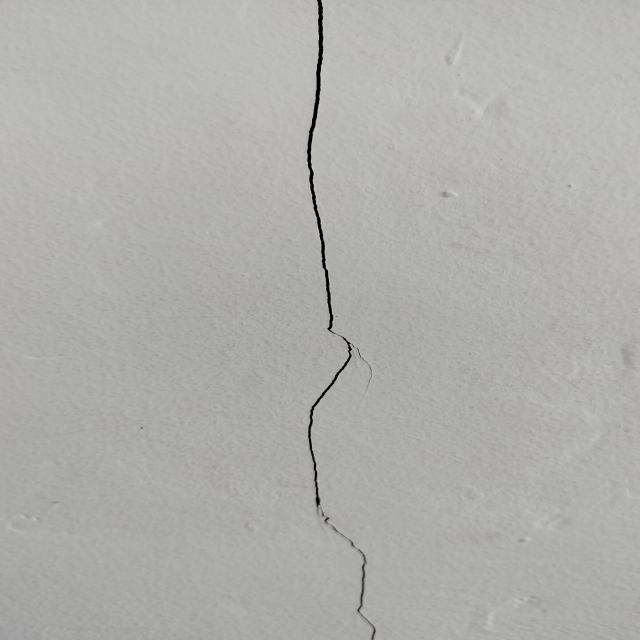Crack: (271, 5, 384, 640)
